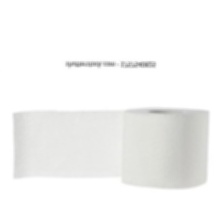tissue: (5, 101, 215, 196)
